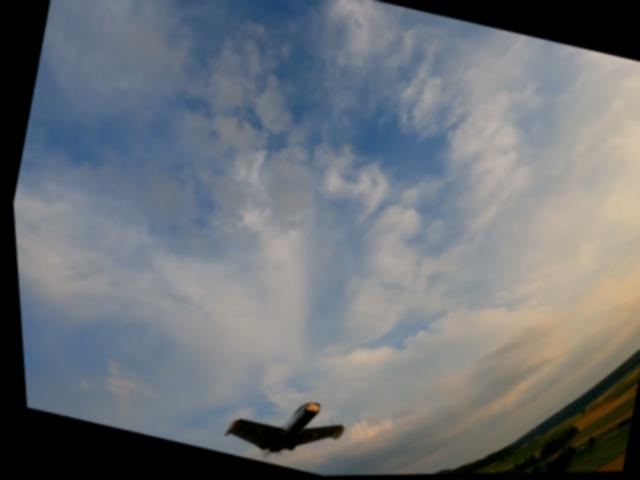plane: (213, 383, 345, 474)
